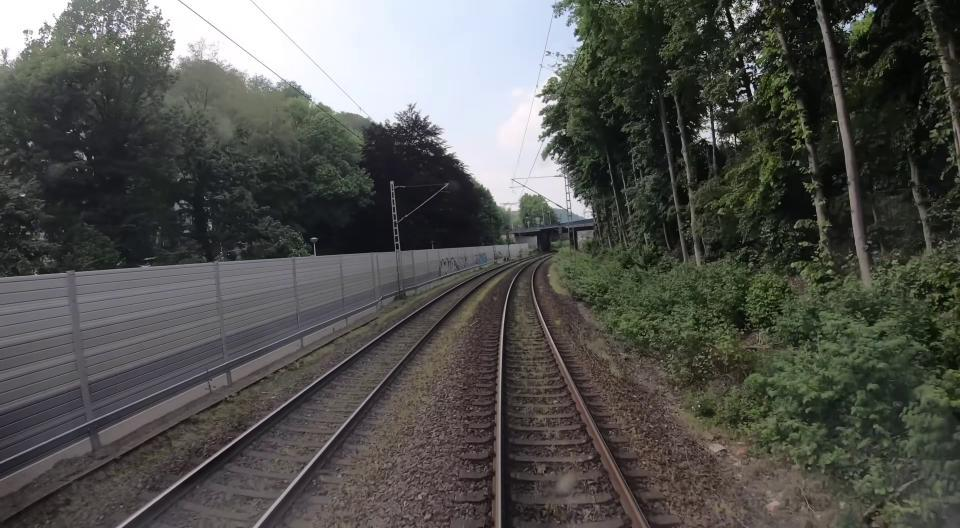Plant: (584, 338, 622, 377), (548, 261, 572, 296)
